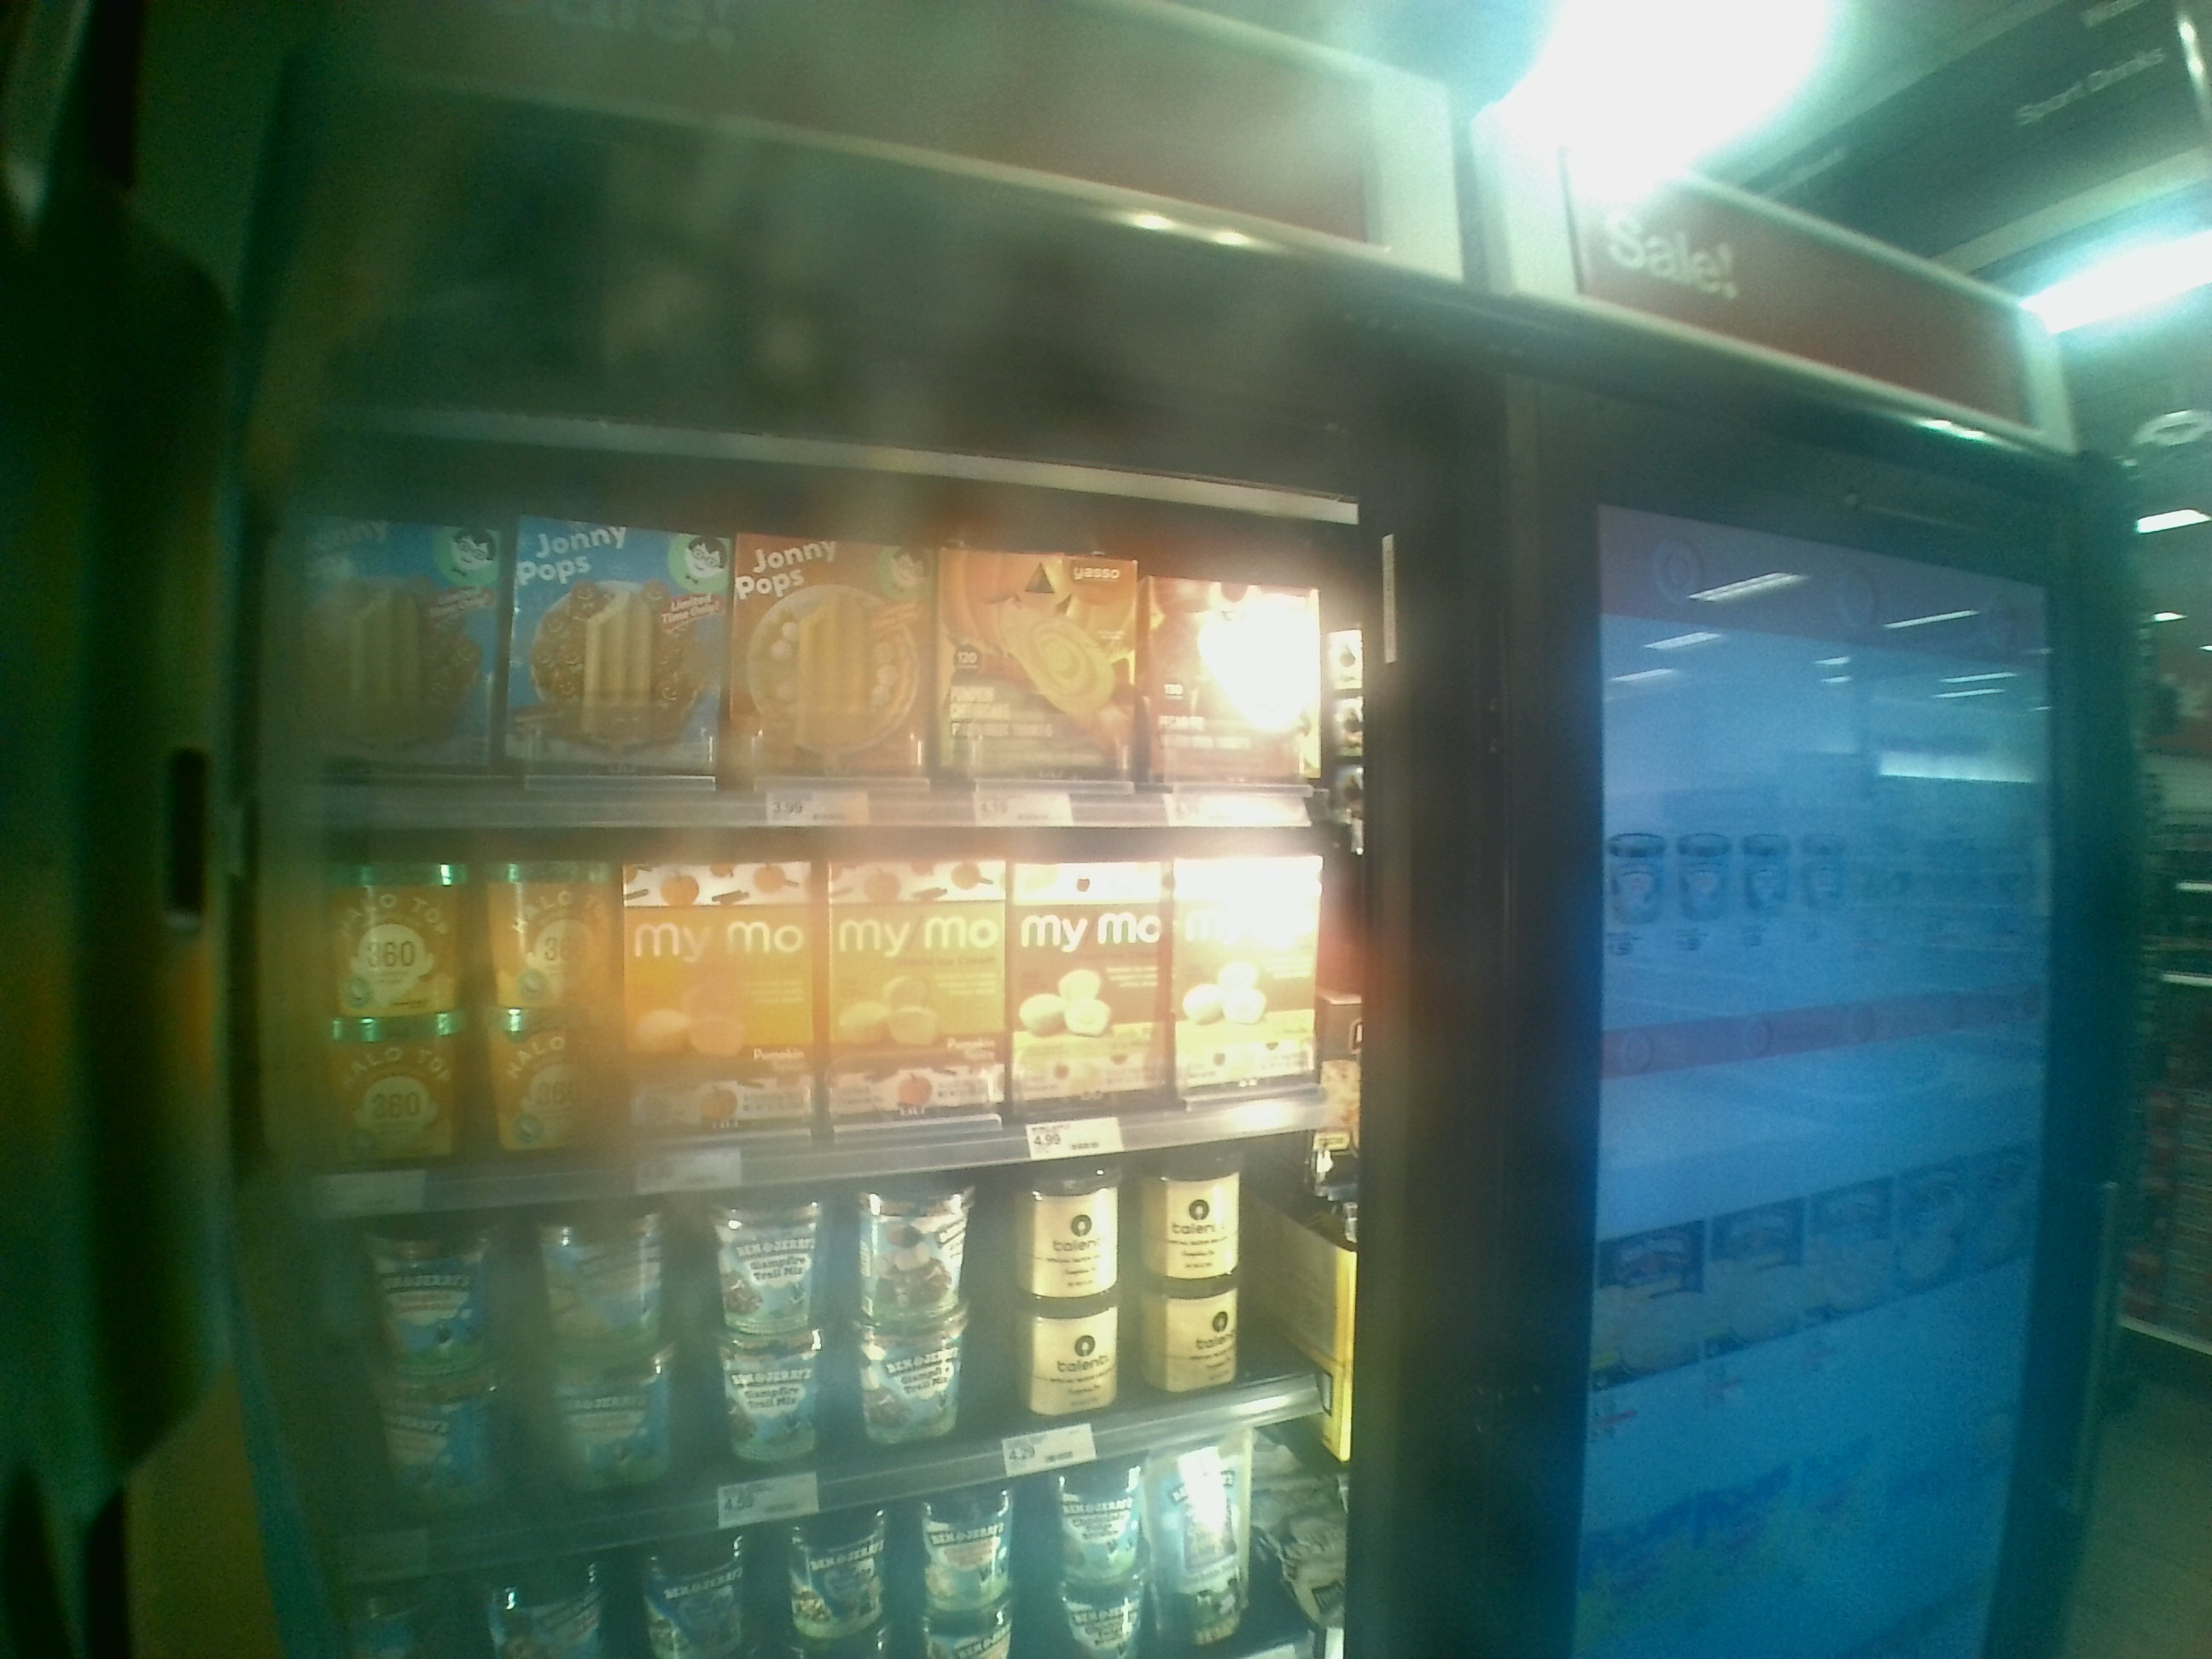shelf: (261, 1195, 1379, 1565), (260, 465, 1374, 833), (253, 850, 1364, 1164)
